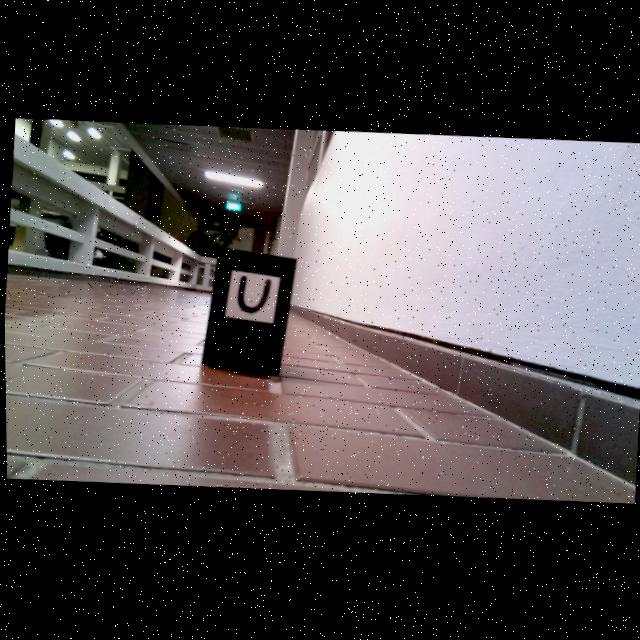U: (236, 277, 270, 315)
